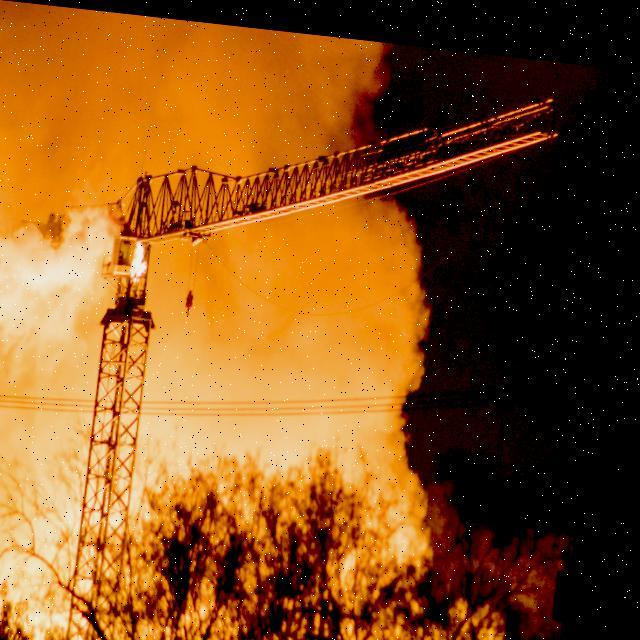Fire: (0, 135, 510, 639)
